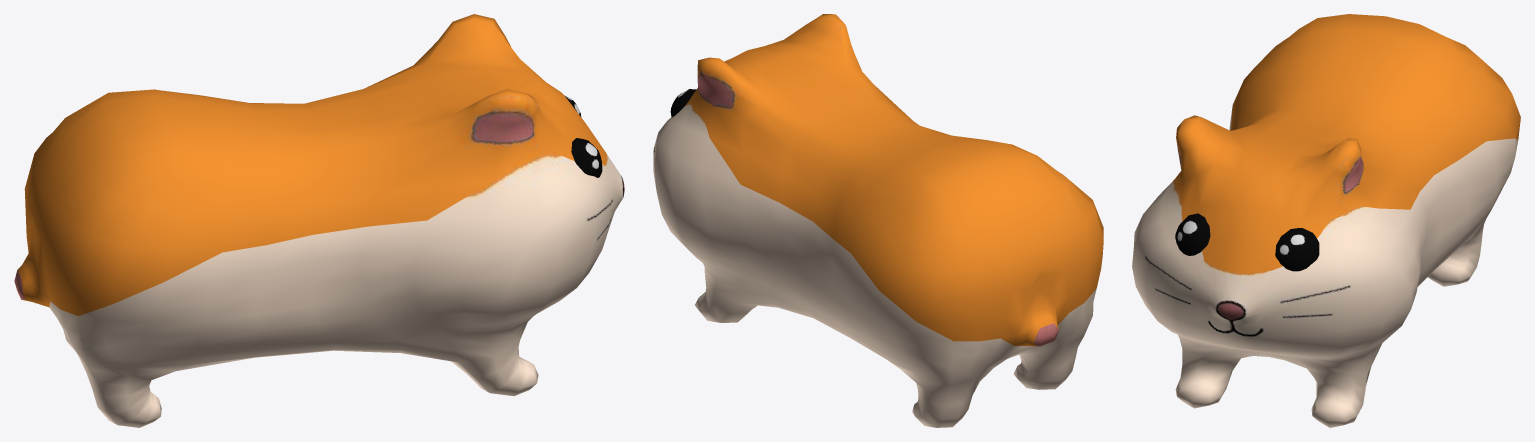
Rendered from ReggieSmol.glb.
The picture shows the model from 3 angles, left to right: view 1: azimuth 30°, elevation 25°; view 2: azimuth 150°, elevation 25°; view 3: azimuth 270°, elevation 25°; orthographic projection. The views are drawn at different scales.
Parts seen in each view (by area): view 1: Object_7_n3d; view 2: Object_7_n3d; view 3: Object_7_n3d.
Part boxes in pixels (x1,y1,x2,y2): Object_7_n3d: (14,14,624,427); Object_7_n3d: (653,14,1103,427); Object_7_n3d: (1132,14,1520,427).
Bounding box in the file's own units: 0.5 × 0.2844 × 0.357.
Materials: 1 (1 with a texture image).
